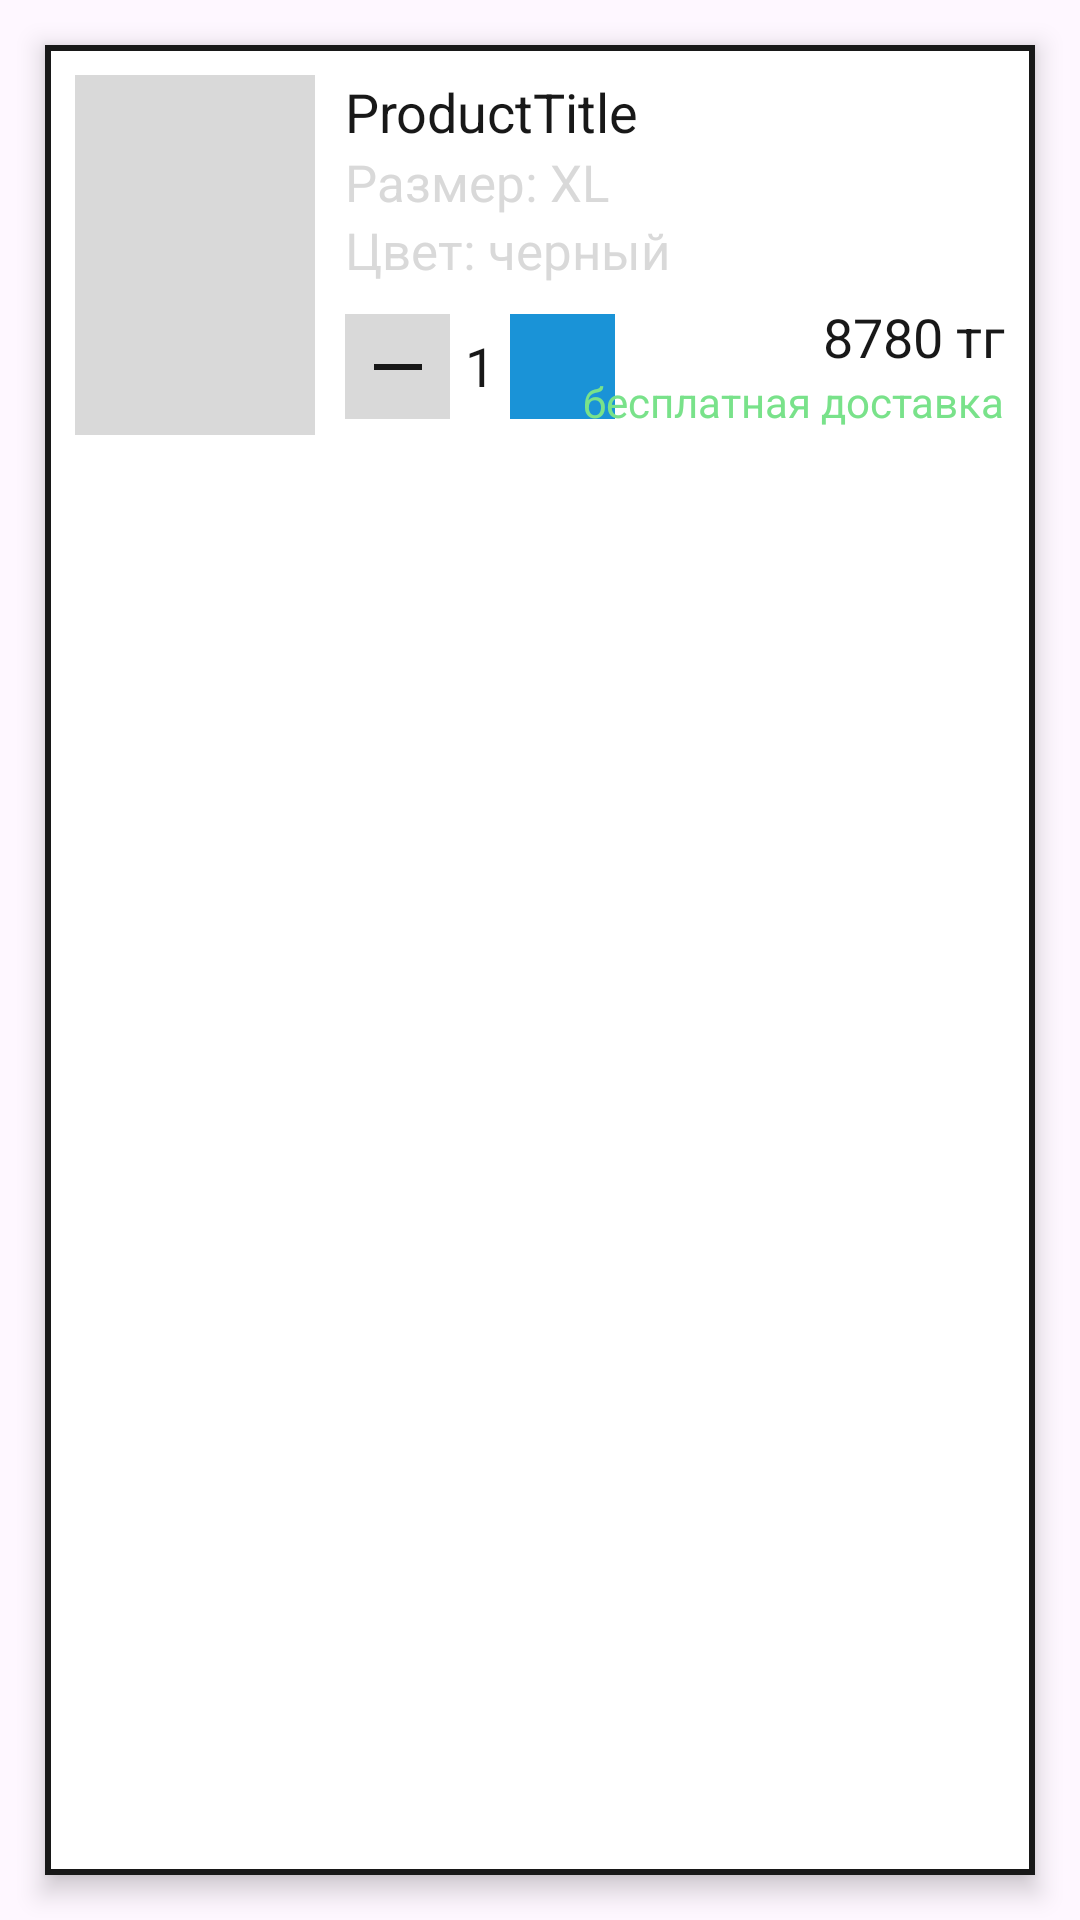

Point at icon controls on the screen. Image size 1080w x 1920h, points as point (x, y).
horizontal rule: point (397, 366)
